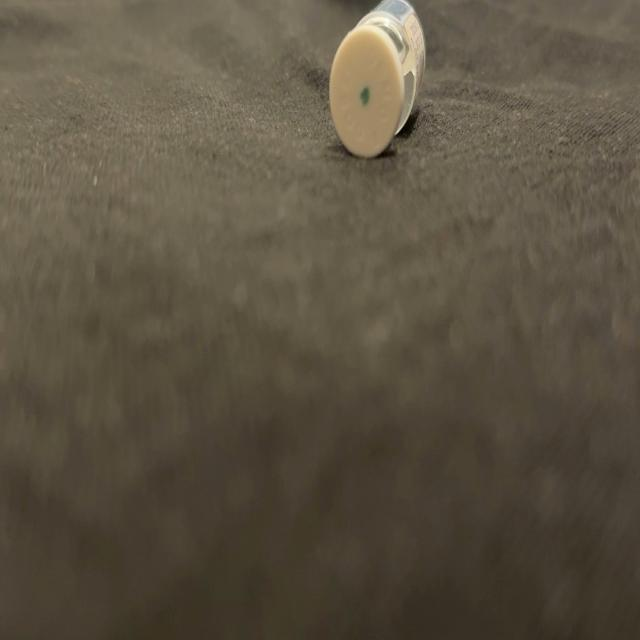fentanl_citrat: (330, 0, 424, 156)
